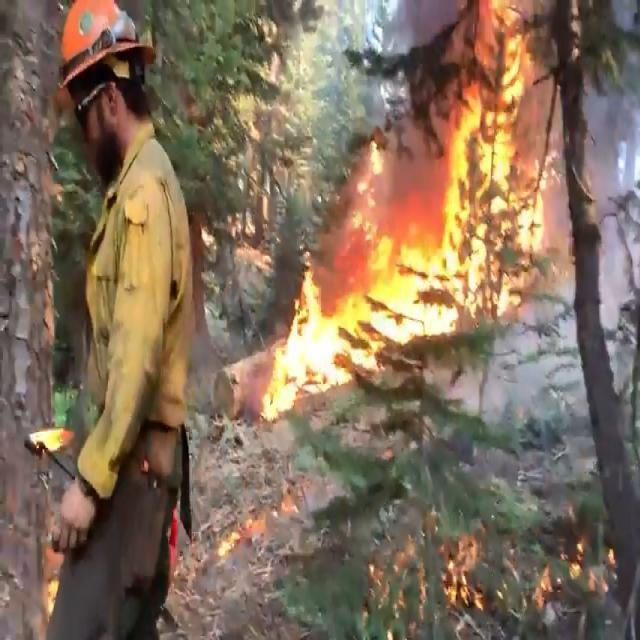Fire: (250, 0, 560, 432)
